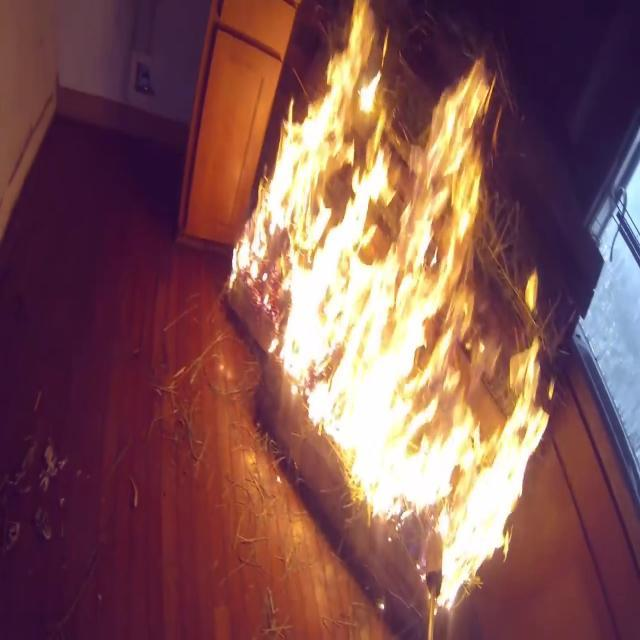Fire: (229, 0, 550, 611)
